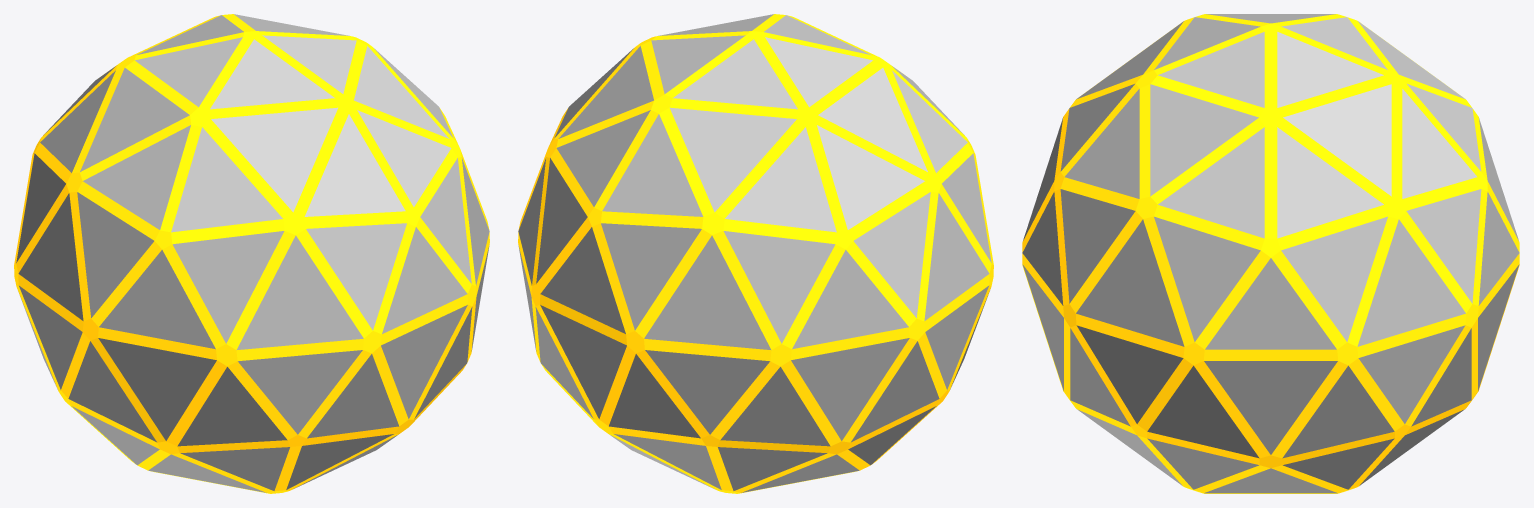
Rendered from Gems_06.fbx.
3 views of the same model, side by side, from view 1: azimuth 30°, elevation 25°; view 2: azimuth 150°, elevation 25°; view 3: azimuth 270°, elevation 25° (orthographic). The views are drawn at different scales.
Visible parts, largest first — view 1: Gem02; view 2: Gem02; view 3: Gem02.
Boxes of the visible parts, left/top/right/bottom form: Gem02: left=14, top=14, right=489, bottom=493; Gem02: left=518, top=14, right=993, bottom=493; Gem02: left=1022, top=14, right=1519, bottom=493.
Bounding box in the file's own units: 190 × 197 × 196.
